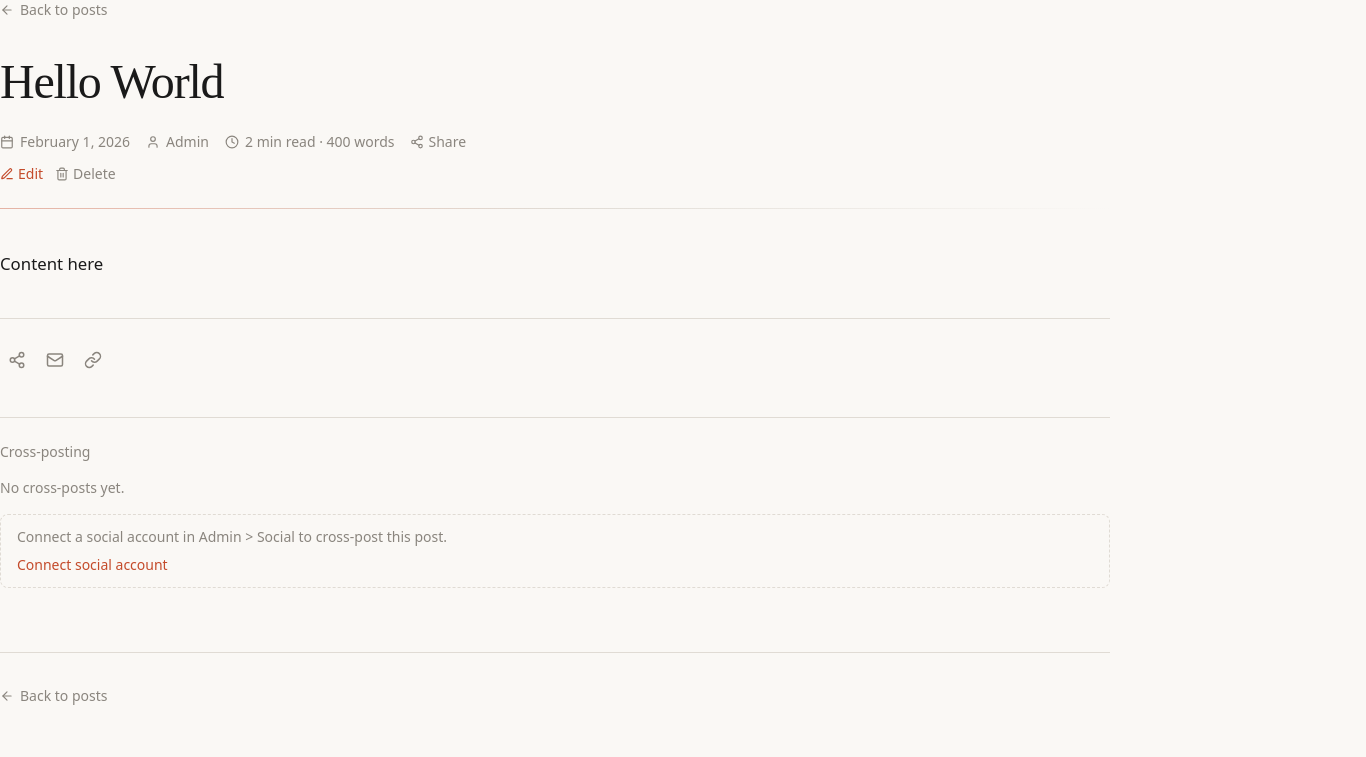
Test: PostPage › shows session expired error on 401 delete failure
Click the button "Delete" at coordinates (85, 174), box 55,164 -> 116,184
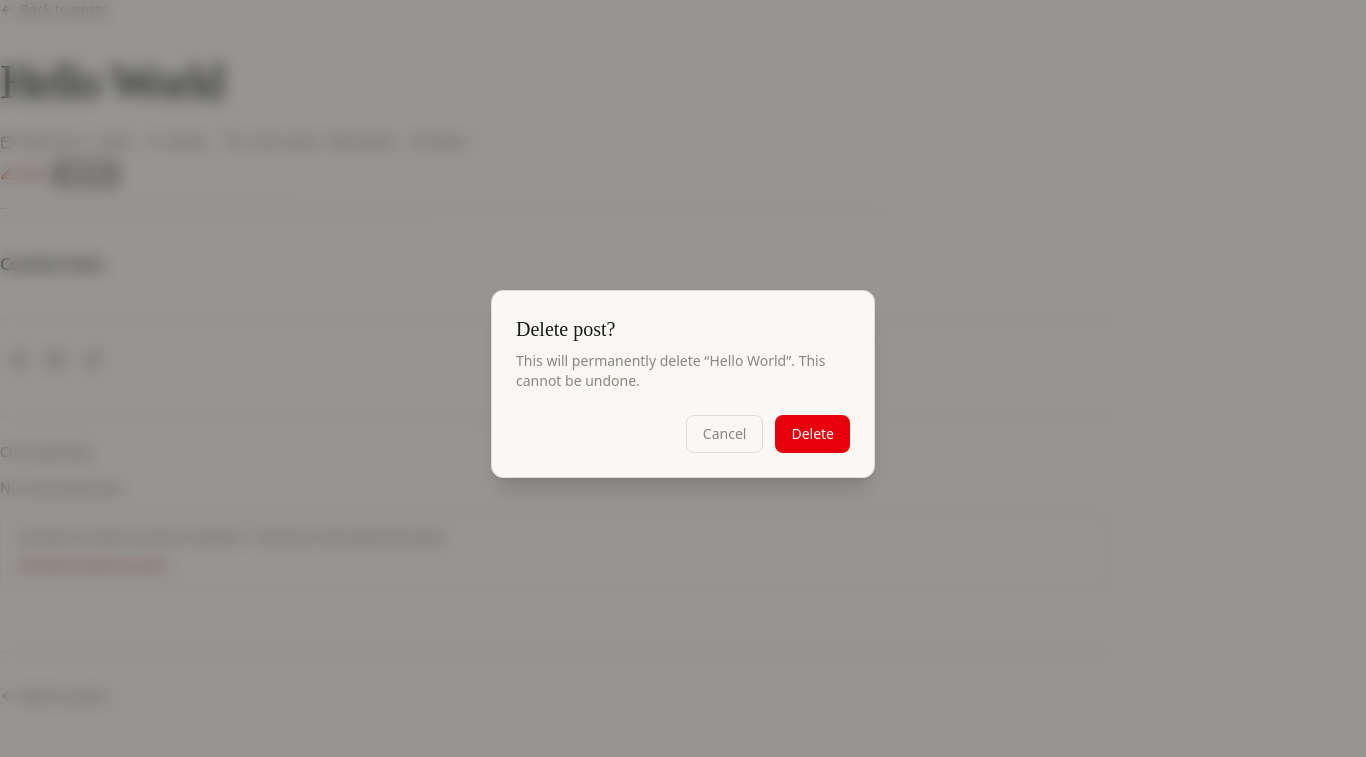
Click the button with test id "confirm-delete" at coordinates (813, 434), box 775,415 -> 850,453
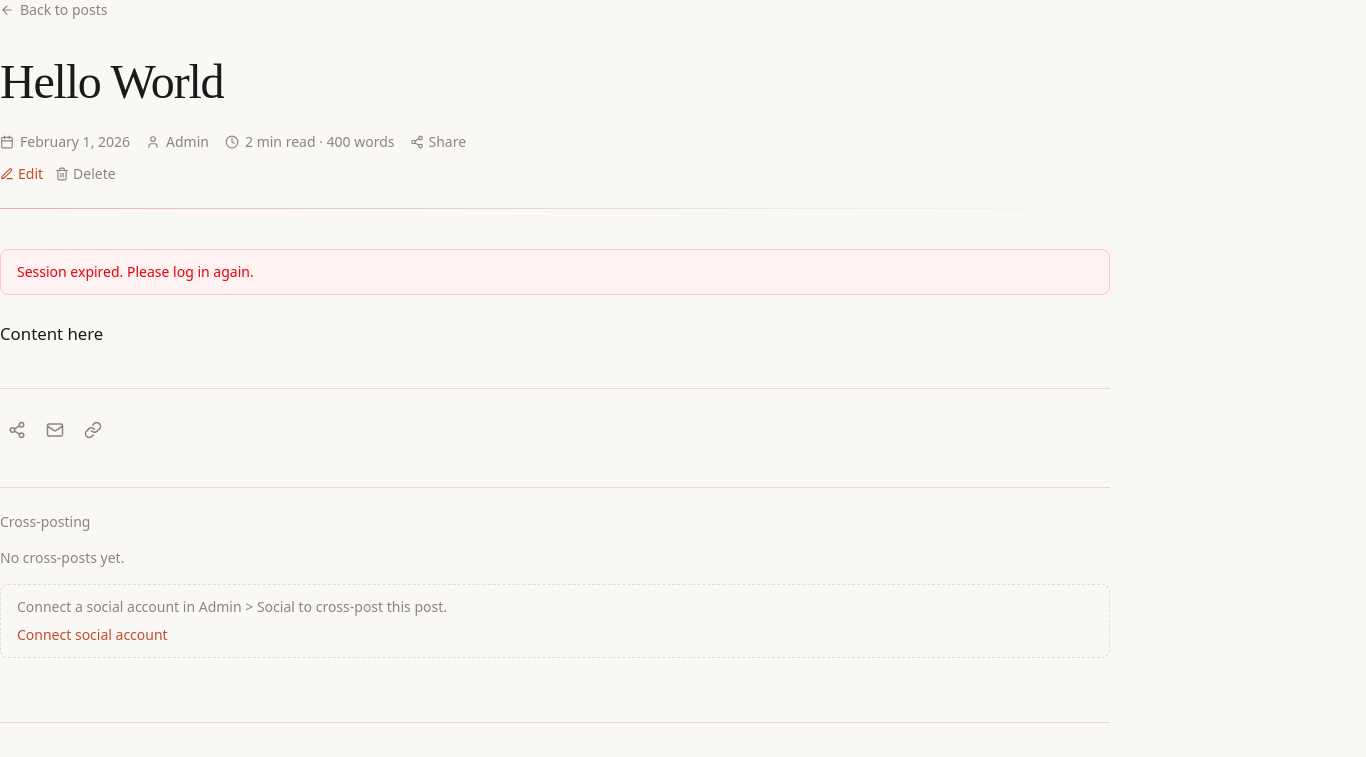
Now the text "Session expired. Please log in again." is shown, box 0,249 -> 1110,295
Now the heading "Delete post?" is gone
